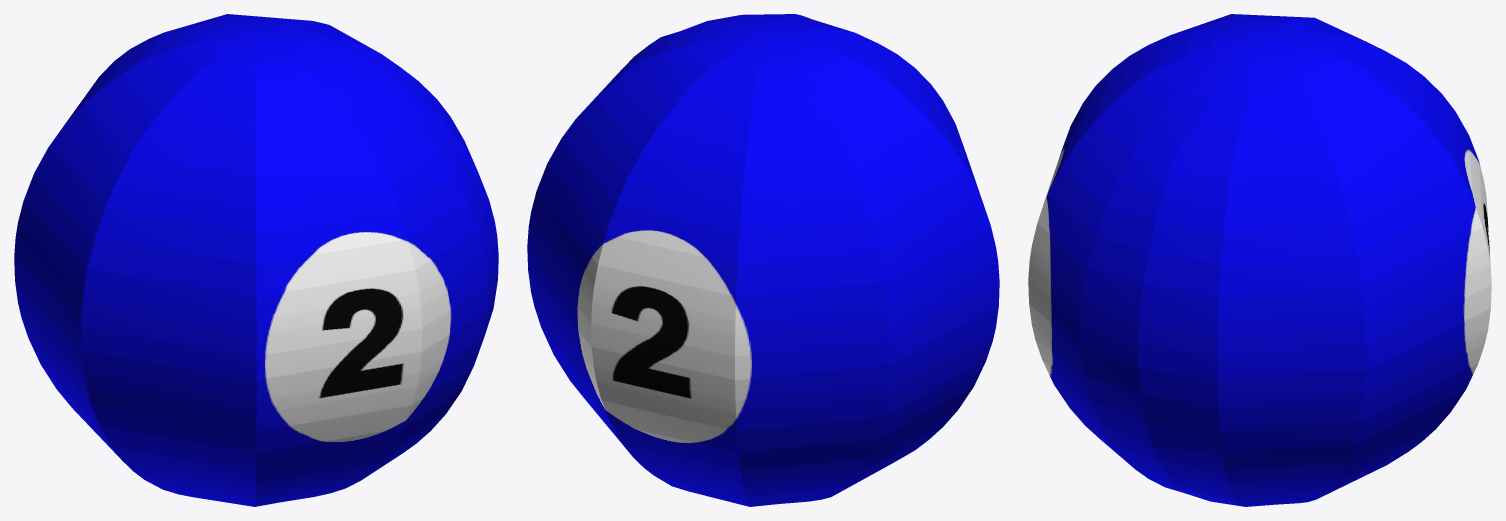
The model's file is 2Ball.fbx.
3 views of the same model, side by side, from view 1: azimuth 30°, elevation 25°; view 2: azimuth 150°, elevation 25°; view 3: azimuth 270°, elevation 25° (orthographic).
Visible parts, largest first — view 1: Eight_Ball_eight_ball; view 2: Eight_Ball_eight_ball; view 3: Eight_Ball_eight_ball.
Boxes of the visible parts, box(x1,y1,x2,y2) form: Eight_Ball_eight_ball: box(14, 14, 498, 506); Eight_Ball_eight_ball: box(527, 14, 999, 506); Eight_Ball_eight_ball: box(1028, 14, 1491, 506).
Size of the model in its own units: 0.3153 by 0.3281 by 0.3081.
